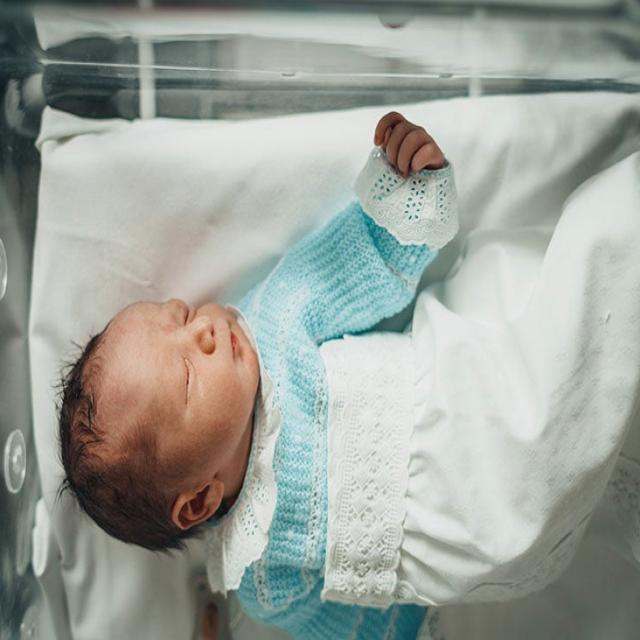child: (57, 115, 640, 640)
